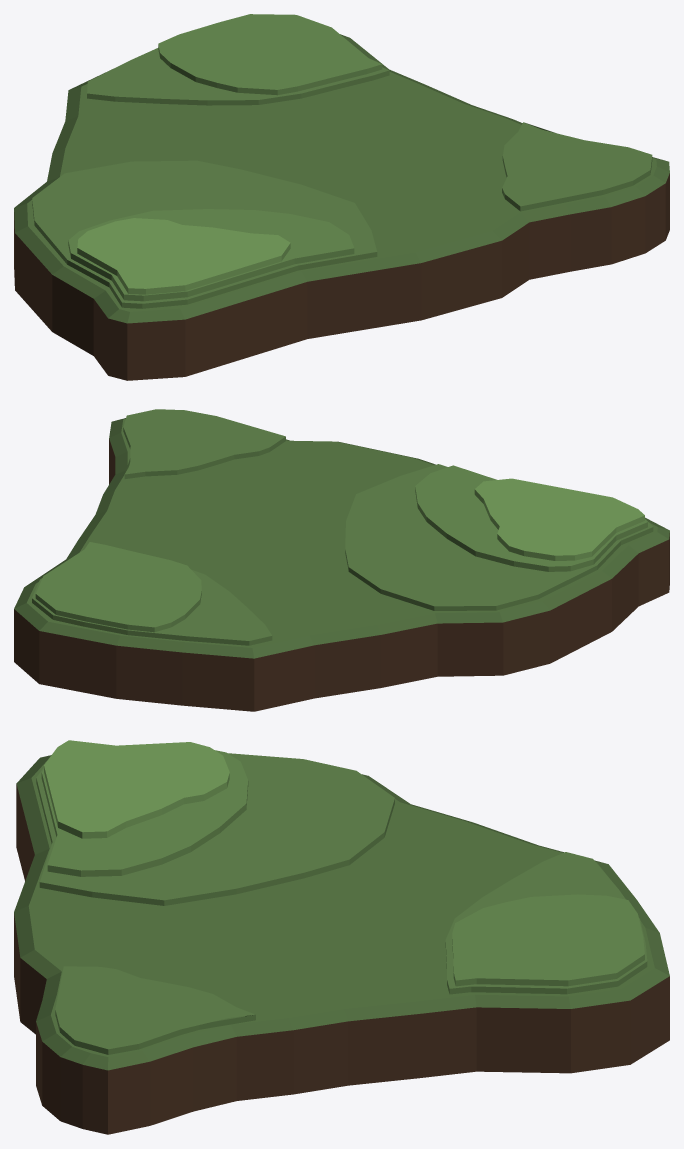
The model's file is PlaceholderIsland.fbx.
3 renders of one model, top to bottom at view 1: azimuth 30°, elevation 25°; view 2: azimuth 150°, elevation 25°; view 3: azimuth 270°, elevation 25°, orthographic. The views are drawn at different scales.
Visible parts, largest first — view 1: TutorialBase, TutorialGround, TutorialHill_02_Ground, TutorialHill_06_Ground, TutorialHill_04_Ground, TutorialHill_01_Ground, TutorialHill_03_Ground, TutorialHill_05_Ground, TutorialHill_02, TutorialHill_03, TutorialHill_05, TutorialHill_04 (+2 smaller); view 2: TutorialBase, TutorialGround, TutorialHill_02_Ground, TutorialHill_06_Ground, TutorialHill_04_Ground, TutorialHill_01_Ground, TutorialHill_03_Ground, TutorialHill_05_Ground, TutorialHill_02, TutorialHill_03, TutorialHill_05, TutorialHill_04 (+2 smaller); view 3: TutorialBase, TutorialGround, TutorialHill_02_Ground, TutorialHill_06_Ground, TutorialHill_04_Ground, TutorialHill_01_Ground, TutorialHill_03_Ground, TutorialHill_05_Ground, TutorialHill_02, TutorialHill_03, TutorialHill_04, TutorialHill_05 (+2 smaller).
Part boxes in pixels (x1,y1,x2,y2): TutorialBase: (14, 34, 669, 380); TutorialGround: (27, 72, 656, 311); TutorialHill_02_Ground: (32, 160, 376, 303); TutorialHill_06_Ground: (158, 14, 381, 89); TutorialHill_04_Ground: (77, 218, 290, 288); TutorialHill_01_Ground: (502, 122, 652, 206); TutorialHill_03_Ground: (68, 209, 353, 295); TutorialHill_05_Ground: (87, 48, 388, 100); TutorialHill_02: (32, 201, 377, 308); TutorialHill_03: (68, 240, 354, 301); TutorialHill_05: (87, 70, 389, 105); TutorialHill_04: (77, 243, 290, 294); TutorialBase: (14, 418, 669, 711); TutorialGround: (27, 419, 657, 647); TutorialHill_02_Ground: (345, 464, 652, 606); TutorialHill_06_Ground: (36, 542, 201, 627); TutorialHill_04_Ground: (475, 478, 644, 555); TutorialHill_01_Ground: (123, 409, 285, 474); TutorialHill_03_Ground: (415, 465, 647, 566); TutorialHill_05_Ground: (32, 545, 271, 640); TutorialHill_02: (345, 527, 653, 610); TutorialHill_03: (415, 487, 647, 571); TutorialHill_05: (32, 598, 272, 645); TutorialHill_04: (474, 489, 644, 560); TutorialBase: (14, 755, 669, 1134); TutorialGround: (28, 760, 654, 1056); TutorialHill_02_Ground: (36, 753, 394, 900); TutorialHill_06_Ground: (452, 894, 644, 980); TutorialHill_04_Ground: (44, 740, 229, 832); TutorialHill_01_Ground: (55, 966, 254, 1049); TutorialHill_03_Ground: (42, 750, 247, 870); TutorialHill_05_Ground: (445, 852, 647, 988); TutorialHill_02: (36, 778, 394, 905); TutorialHill_03: (41, 773, 248, 876); TutorialHill_04: (44, 766, 229, 838); TutorialHill_05: (445, 942, 647, 994).
Bounding box in the file's own units: 1060 × 139 × 925.
